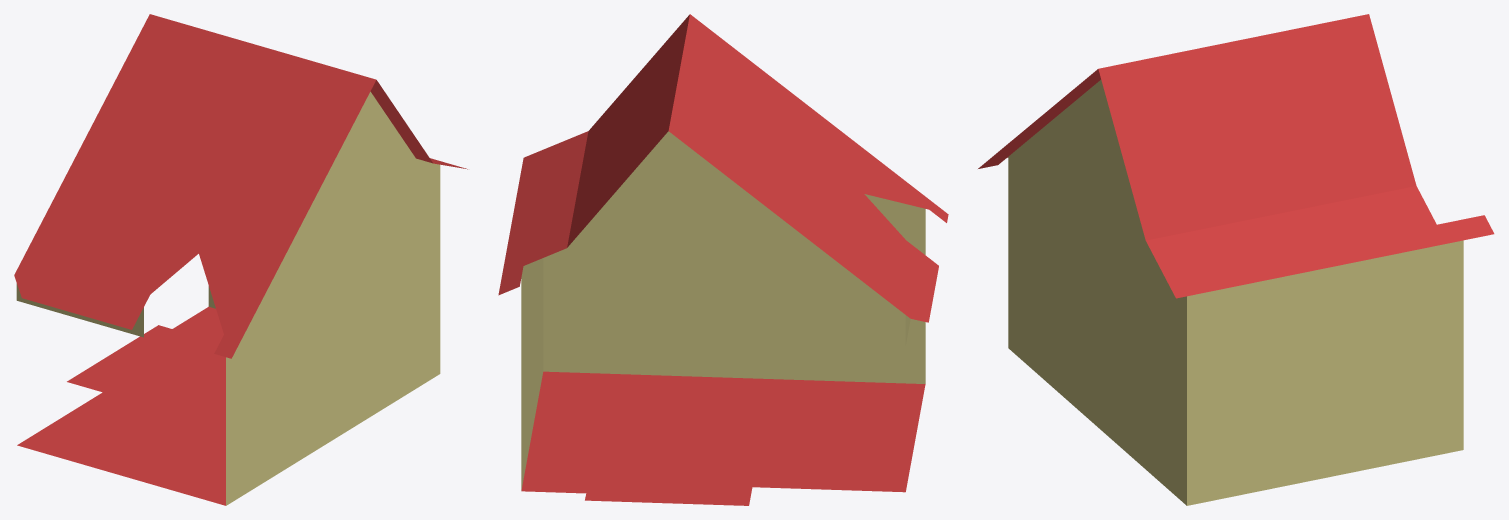
3 views of the same model, side by side, from view 1: azimuth 30°, elevation 25°; view 2: azimuth 150°, elevation 25°; view 3: azimuth 270°, elevation 25° (orthographic). The views are drawn at different scales.
Bounding box in the file's own units: 17.34 × 16.76 × 13.64.
